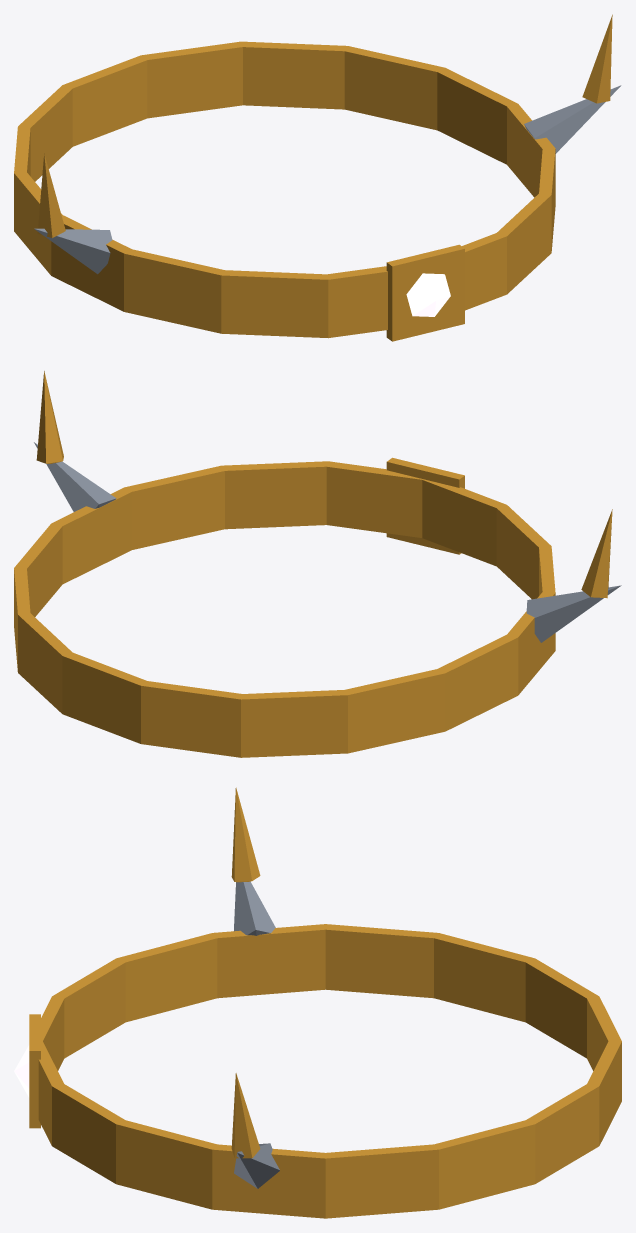
The model's file is armor_guard_head_epic_human.glb.
3 renders of one model, top to bottom at view 1: azimuth 30°, elevation 25°; view 2: azimuth 150°, elevation 25°; view 3: azimuth 270°, elevation 25°, orthographic. The views are drawn at different scales.
Visible parts, largest first — view 1: armor_guard_head_epic_human__head; view 2: armor_guard_head_epic_human__head; view 3: armor_guard_head_epic_human__head.
Boxes of the visible parts, x1,y1,x2,y2 form: armor_guard_head_epic_human__head: [14, 14, 621, 341]; armor_guard_head_epic_human__head: [14, 371, 621, 757]; armor_guard_head_epic_human__head: [14, 787, 621, 1218].
Size of the model in its own units: 72.83 by 20.79 by 63.3.
